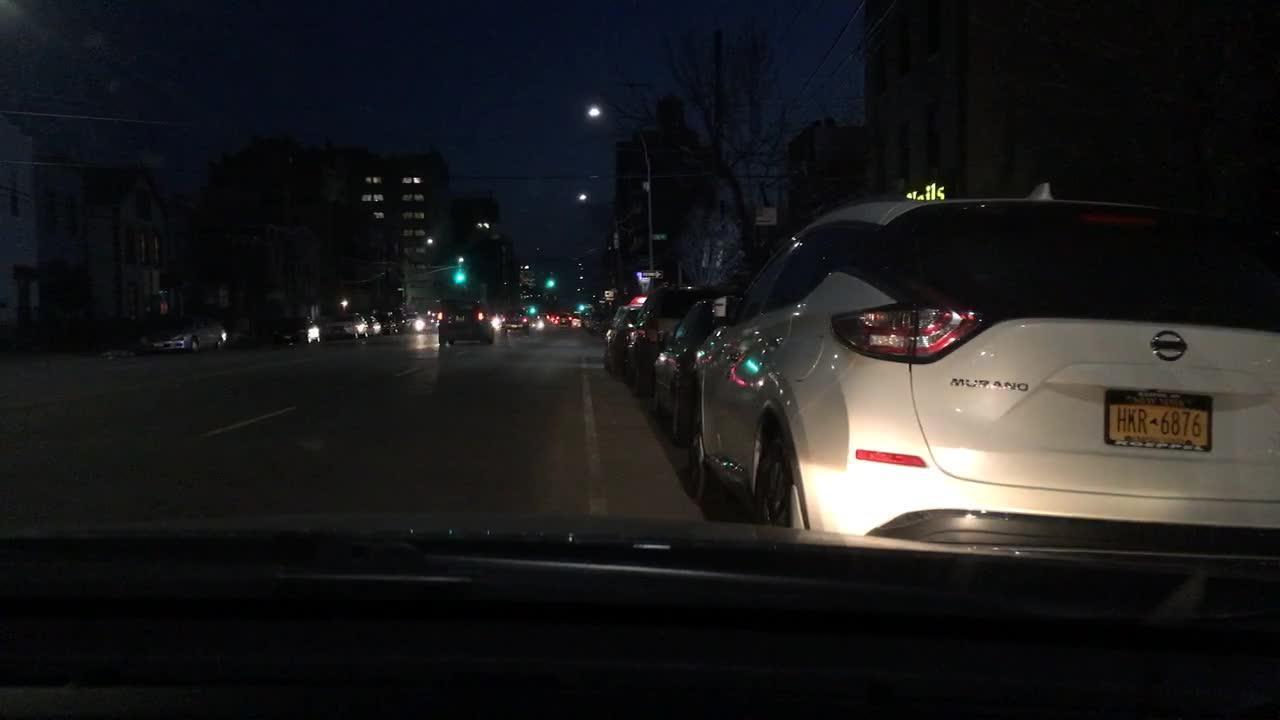Nissan: (1128, 312, 1213, 375)
